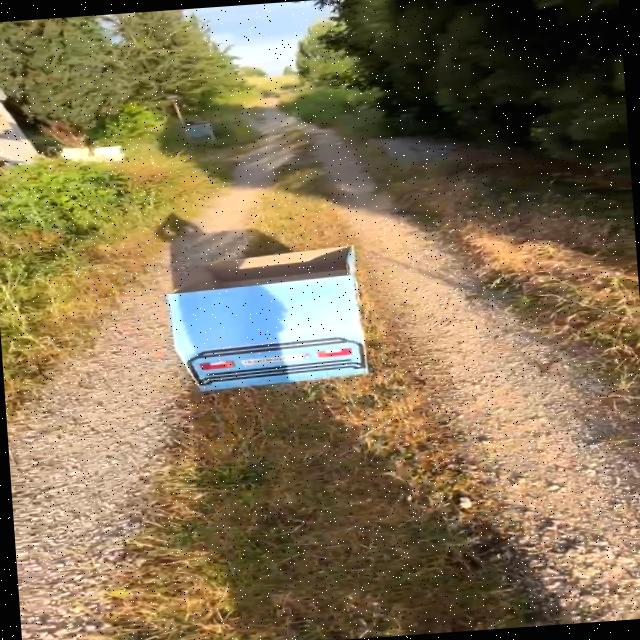blue_car: (137, 224, 392, 417)
